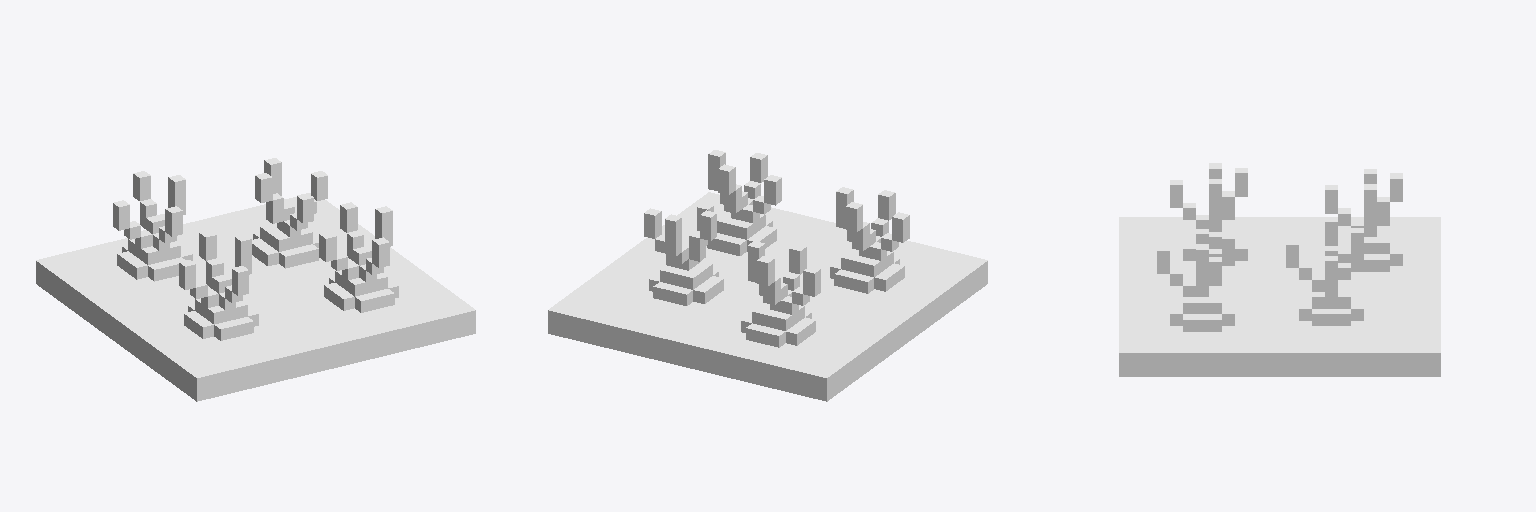
Rendered from carrotGardenBed-2.obj.
3 renders of one model, left to right at view 1: azimuth 30°, elevation 25°; view 2: azimuth 150°, elevation 25°; view 3: azimuth 270°, elevation 25°, orthographic.
Visible parts, largest first — view 1: object 1; view 2: object 1; view 3: object 1.
Boxes of the visible parts, box(x1,y1,x2,y2) form: object 1: box(36, 158, 475, 401); object 1: box(548, 150, 987, 401); object 1: box(1119, 163, 1440, 376).
Size of the model in its own units: 2.5 by 0.9 by 2.5.